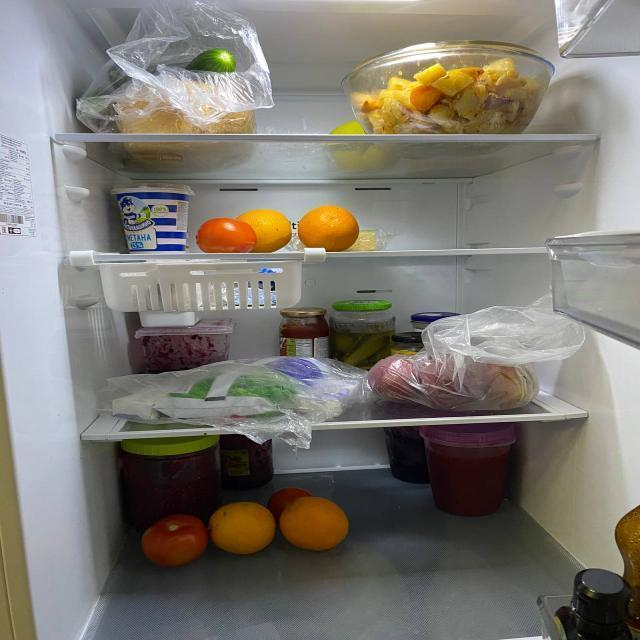apple: (467, 358, 542, 408), (409, 358, 471, 408), (366, 356, 416, 404)
cucumber: (192, 42, 237, 77)
orange: (281, 496, 351, 553), (205, 503, 278, 554), (297, 208, 360, 249), (238, 208, 294, 249)
tomato: (142, 515, 206, 565), (189, 216, 256, 254), (262, 485, 314, 512)
